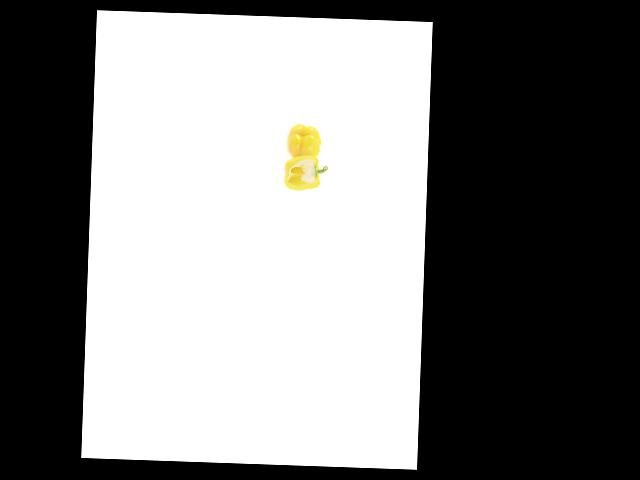bell_pepper: (275, 147, 329, 193)
